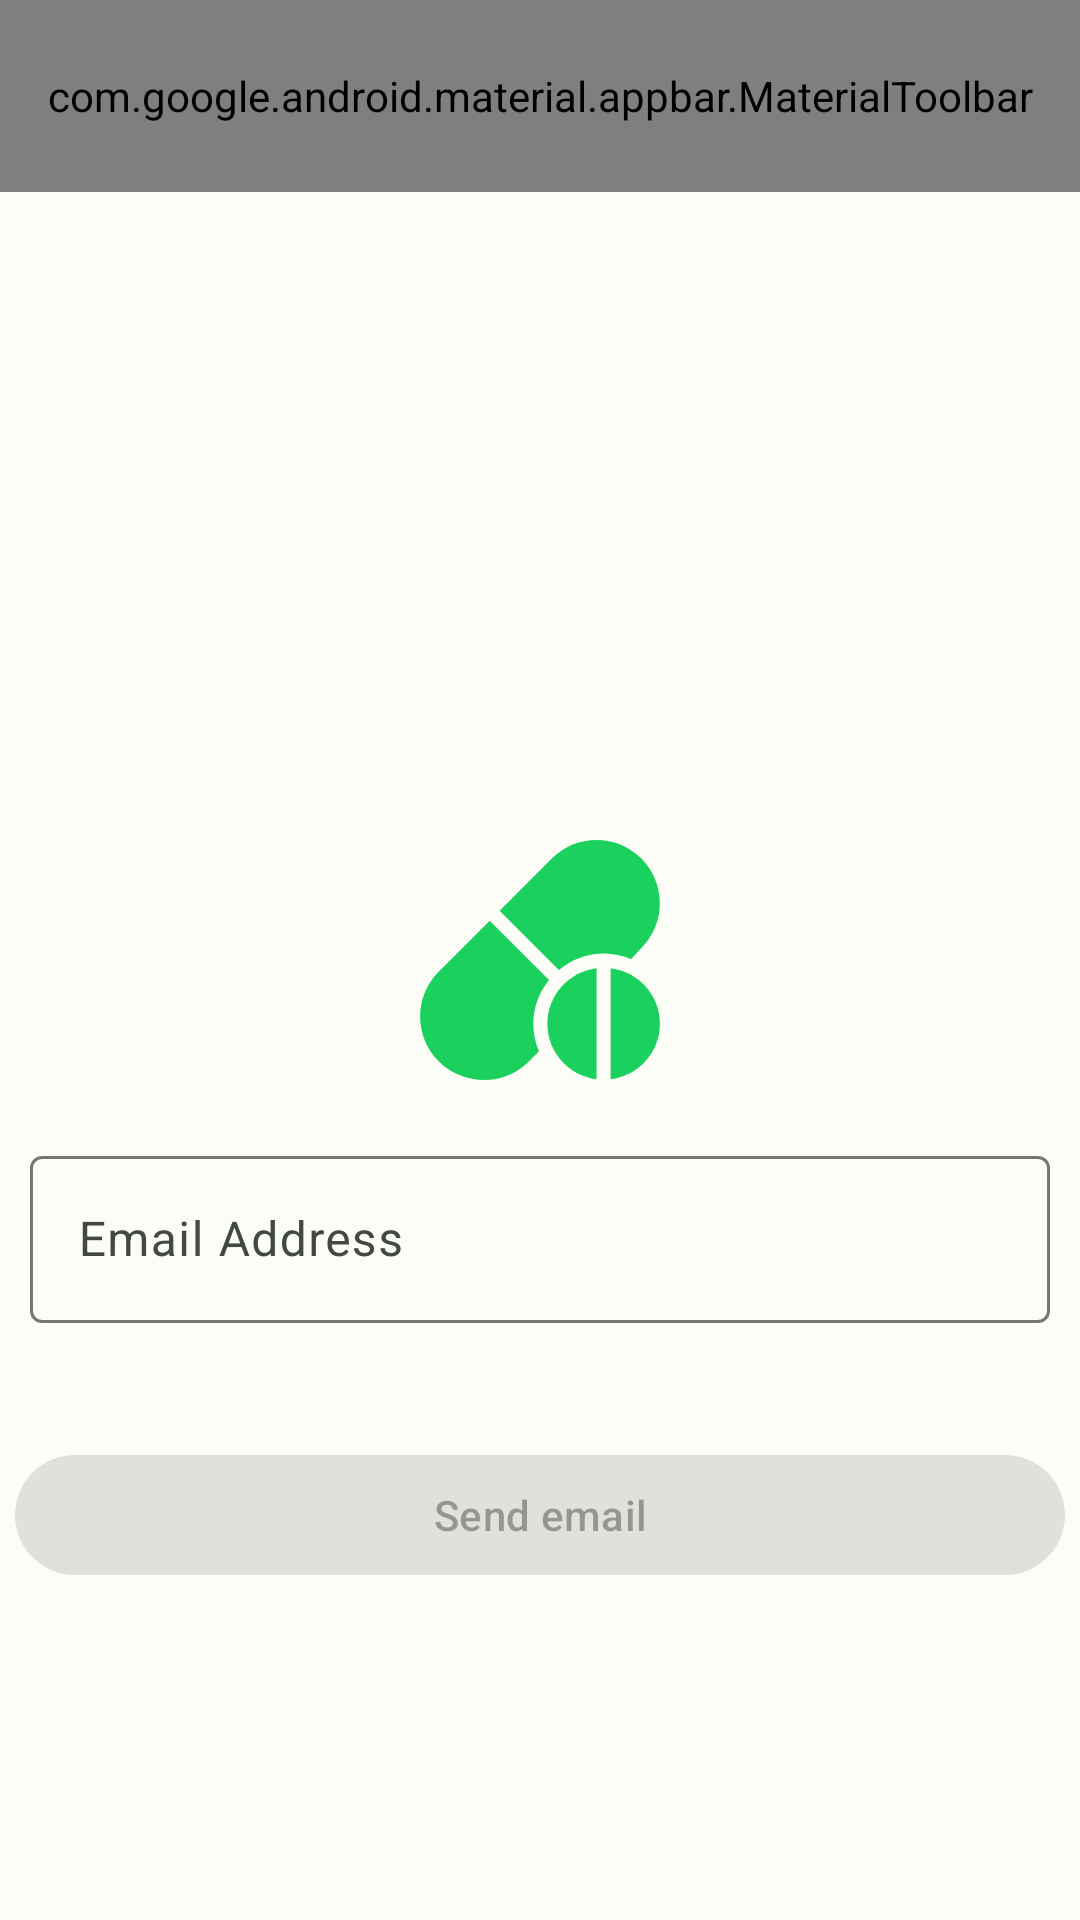

Screen size 1080w x 1920h. Icon name, then its center in pixels as (x=x, y=y):
App icon: (x=540, y=960)
